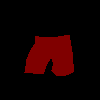bermuda: (24, 34, 74, 76)
